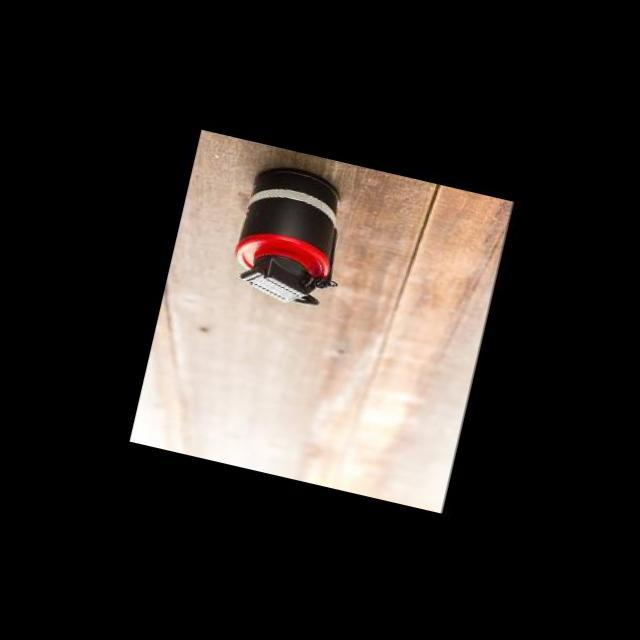grenade: (218, 152, 376, 316)
